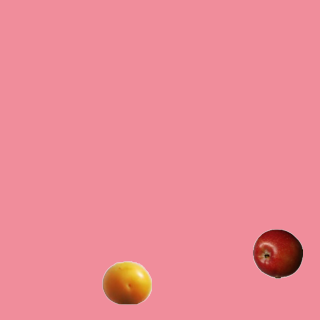Apple Braeburn: (252, 228, 302, 278)
Cherry Wax Yellow: (101, 257, 151, 307)
